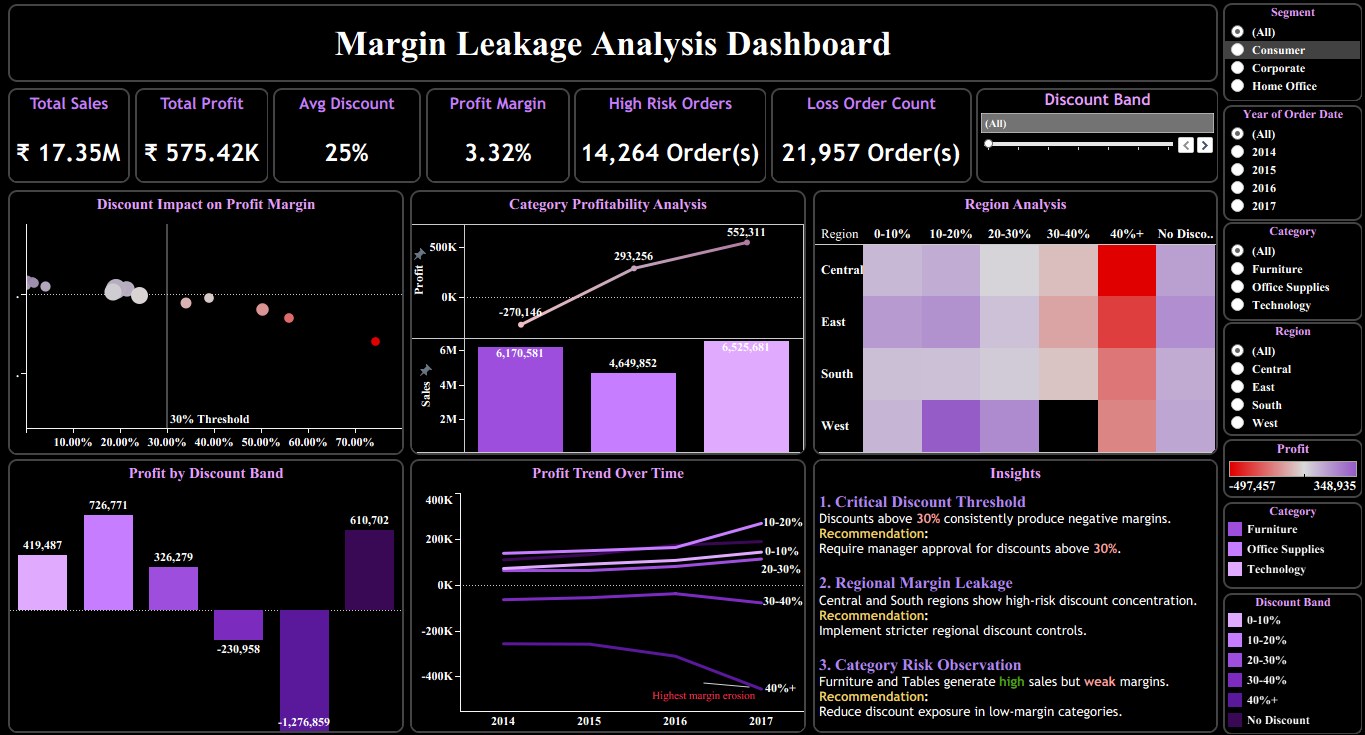

This screenshot's page, from the dashboard's own definition file:
{"tool":"tableau","page":{"name":"Dashboard Final","canvas":[1000,1000],"units":"permille","ordinal":0},"visuals":[{"type":"filter","title":"Discount vs Profit","param":"[federated.1gnlc0i0r1mxni1axld0o0vtx78i].[none:Segment:nk]","box":[895.2,3.4,102.2,133.6]},{"type":"title","box":[6,5.1,885.9,106.2]},{"type":"worksheet","title":"Total Sales","mark":"Automatic","box":[6.1,119.9,89.2,128.4]},{"type":"worksheet","title":"Total Profit","mark":"Automatic","box":[98.7,119.9,97.8,128.4]},{"type":"worksheet","title":"Avg Discount","mark":"Automatic","box":[200,119.9,108.2,128.4]},{"type":"worksheet","title":"Profit Margin","mark":"Automatic","box":[311.7,119.9,105.6,128.4]},{"type":"worksheet","title":"High Risk Orders","mark":"Automatic","box":[419.9,119.9,141.1,128.4]},{"type":"worksheet","title":"Loss Orders Count","mark":"Automatic","box":[564.5,119.9,147.2,128.4]},{"type":"filter","title":"Category Profitability Analysis","param":"[federated.1gnlc0i0r1mxni1axld0o0vtx78i].[none:Calculation_0705402765086721:nk]","box":[714.4,119.9,177.5,128.4]},{"type":"filter","title":"Category Profitability Analysis","param":"[federated.1gnlc0i0r1mxni1axld0o0vtx78i].[yr:Order Date:ok]","box":[895.2,142.1,102.2,157.5]},{"type":"worksheet","title":"Discount vs Profit","mark":"Circle","rows":["Calculation_0705402764922880"],"cols":["Discount"],"box":[6.1,256.9,290,359.6]},{"type":"worksheet","title":"Category Profitability Analysis","mark":"Automatic","rows":["Profit","Sales"],"cols":["Category"],"box":[300.4,256.9,290,359.6]},{"type":"worksheet","title":"Region Analysis","mark":"Automatic","rows":["Region"],"cols":["Calculation_0705402765086721"],"box":[595.2,256.9,296.7,359.6]},{"type":"filter","title":"Discount vs Profit","param":"[federated.1gnlc0i0r1mxni1axld0o0vtx78i].[none:Category:nk]","box":[895.2,301.4,102.2,133.6]},{"type":"filter","title":"Discount vs Profit","param":"[federated.1gnlc0i0r1mxni1axld0o0vtx78i].[none:Region:nk]","box":[895.2,436.6,102.2,154.1]},{"type":"legend","title":"Region Analysis","param":"[federated.1gnlc0i0r1mxni1axld0o0vtx78i].[sum:Profit:qk]","box":[895.2,594.2,102.2,80.5]},{"type":"worksheet","title":"Profit by Discount Band","mark":"Automatic","rows":["Profit"],"cols":["Calculation_0705402765086721"],"box":[6.1,621.6,290,371.6]},{"type":"worksheet","title":"Profit Trend Over Time","mark":"Automatic","rows":["Profit"],"cols":["Order Date"],"box":[300.4,621.6,290,371.6]},{"type":"worksheet","title":"Insights","mark":"Automatic","box":[595.2,621.6,296.7,371.6]},{"type":"legend","title":"Discount vs Profit","param":"[federated.1gnlc0i0r1mxni1axld0o0vtx78i].[sum:Profit:qk]","box":[895.2,662.7,102.2,137]},{"type":"legend","title":"Category Profitability Analysis","param":"[federated.1gnlc0i0r1mxni1axld0o0vtx78i].[none:Category:nk]","box":[895.2,679.8,102.2,118.2]},{"type":"legend","title":"Profit by Discount Band","param":"[federated.1gnlc0i0r1mxni1axld0o0vtx78i].[none:Calculation_0705402765086721:nk]","box":[895.2,803.1,102.2,191.8]}]}

Visuals, with their boxes on the dashboard's canvas, which has no fixed pixel size, in thousandths of its width and height (x1, y1, x2, y2). These are canvas units, not pixel positions in the 1365x735 screenshot, which may show the page scaled, cropped or inside an application window:
"Discount vs Profit" filter: detection(895, 3, 997, 137)
title: detection(6, 5, 892, 111)
"Total Sales" worksheet: detection(6, 120, 95, 248)
"Total Profit" worksheet: detection(99, 120, 196, 248)
"Avg Discount" worksheet: detection(200, 120, 308, 248)
"Profit Margin" worksheet: detection(312, 120, 417, 248)
"High Risk Orders" worksheet: detection(420, 120, 561, 248)
"Loss Orders Count" worksheet: detection(564, 120, 712, 248)
"Category Profitability Analysis" filter: detection(714, 120, 892, 248)
"Category Profitability Analysis" filter: detection(895, 142, 997, 300)
"Discount vs Profit" worksheet (Circle marks): detection(6, 257, 296, 616)
"Category Profitability Analysis" worksheet: detection(300, 257, 590, 616)
"Region Analysis" worksheet: detection(595, 257, 892, 616)
"Discount vs Profit" filter: detection(895, 301, 997, 435)
"Discount vs Profit" filter: detection(895, 437, 997, 591)
"Region Analysis" legend: detection(895, 594, 997, 675)
"Profit by Discount Band" worksheet: detection(6, 622, 296, 993)
"Profit Trend Over Time" worksheet: detection(300, 622, 590, 993)
"Insights" worksheet: detection(595, 622, 892, 993)
"Discount vs Profit" legend: detection(895, 663, 997, 800)
"Category Profitability Analysis" legend: detection(895, 680, 997, 798)
"Profit by Discount Band" legend: detection(895, 803, 997, 995)
